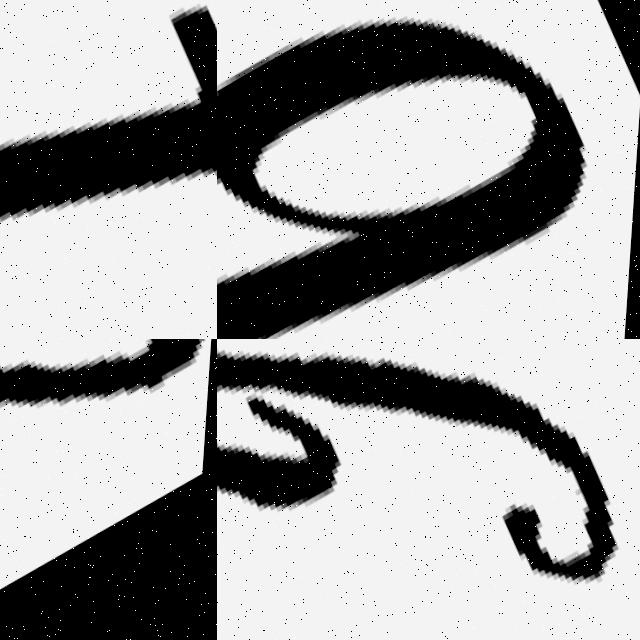1: (0, 0, 217, 339)
B: (217, 23, 592, 339)
D: (0, 339, 217, 640)
G: (217, 339, 640, 640)
